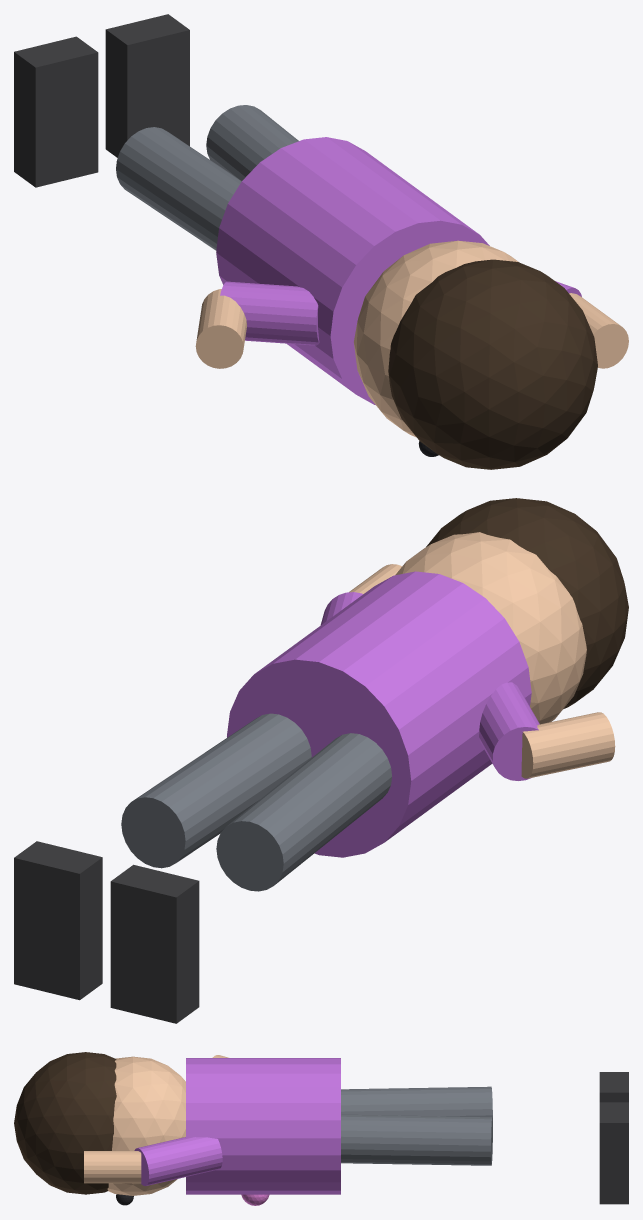
Rendered from Life_Buddy.glb.
3 renders of one model, top to bottom at view 1: azimuth 30°, elevation 25°; view 2: azimuth 150°, elevation 25°; view 3: azimuth 270°, elevation 25°, orthographic. The views are drawn at different scales.
Parts seen in each view (by area): view 1: hair, torso, shoe.L, shoe.R, leg.L, head, arm.L, leg.R, forearm.L, forearm.R; view 2: torso, leg.L, leg.R, head, shoe.L, shoe.R, hair, forearm.L, arm.L; view 3: torso, hair, leg.R, head, leg.L, arm.R, shoe.R, forearm.R, shoe.L, badge.
Boxes of the visible parts, <box> form: hair: <box>388,259,597,469</box>; torso: <box>216,137,489,404</box>; shoe.L: <box>14,36,98,187</box>; shoe.R: <box>105,14,189,157</box>; leg.L: <box>116,127,241,250</box>; head: <box>353,240,519,437</box>; arm.L: <box>220,281,319,345</box>; leg.R: <box>206,105,298,180</box>; forearm.L: <box>195,289,246,368</box>; forearm.R: <box>569,293,628,368</box>; torso: <box>227,571,531,857</box>; leg.L: <box>216,733,391,891</box>; leg.R: <box>121,713,311,868</box>; head: <box>395,532,586,724</box>; shoe.L: <box>110,864,199,1023</box>; shoe.R: <box>14,841,102,1000</box>; hair: <box>426,498,628,708</box>; forearm.L: <box>521,712,615,778</box>; arm.L: <box>479,682,539,780</box>; torso: <box>186,1058,340,1194</box>; hair: <box>14,1052,116,1194</box>; leg.R: <box>341,1114,492,1165</box>; head: <box>107,1056,185,1195</box>; leg.L: <box>341,1086,492,1121</box>; arm.R: <box>134,1137,222,1186</box>; shoe.R: <box>599,1102,628,1204</box>; forearm.R: <box>84,1151,141,1183</box>; shoe.L: <box>599,1072,628,1102</box>; badge: <box>241,1194,269,1205</box>.
Bounding box in the file's own units: 1.59 × 0.99 × 3.77.
